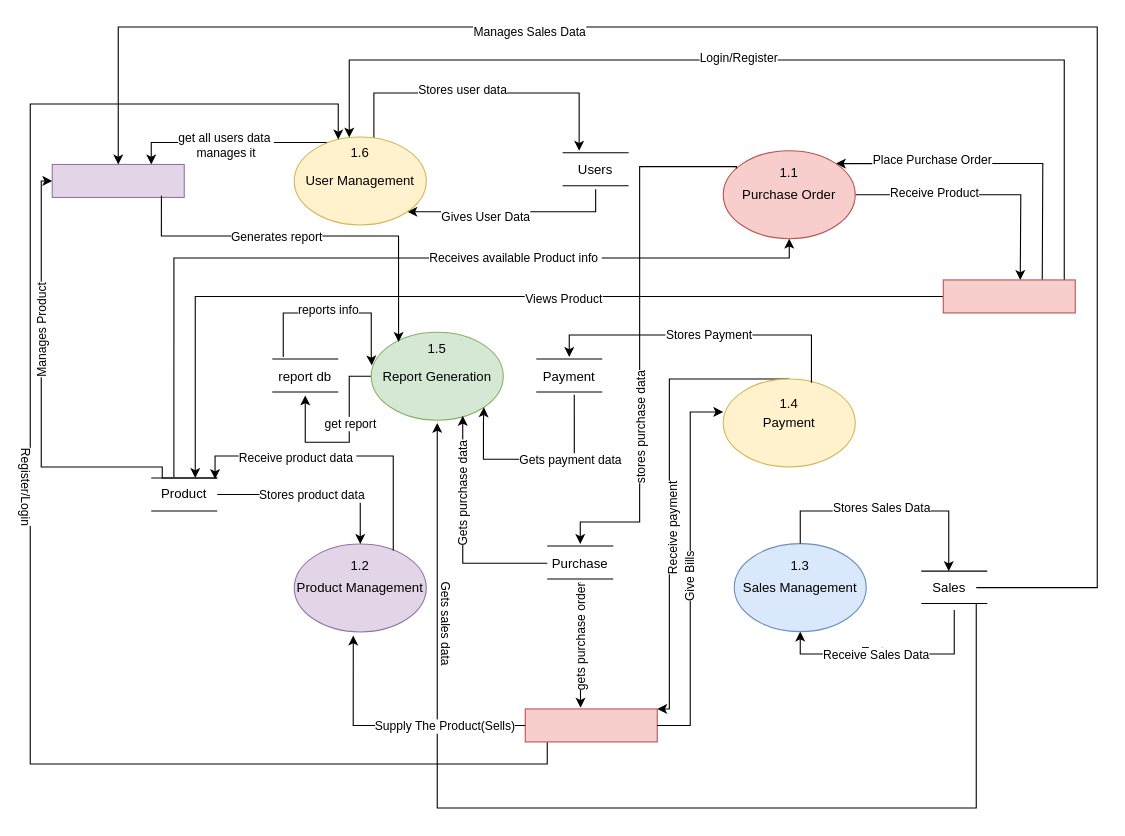
Image size: 1125x836. Some labels were removed from this diagram. Here are the shapes that lost their labels. From the top down, the centre of each, then its label:
[117,180]: Admin
[1008,296]: Customer
[590,725]: Suppiler
